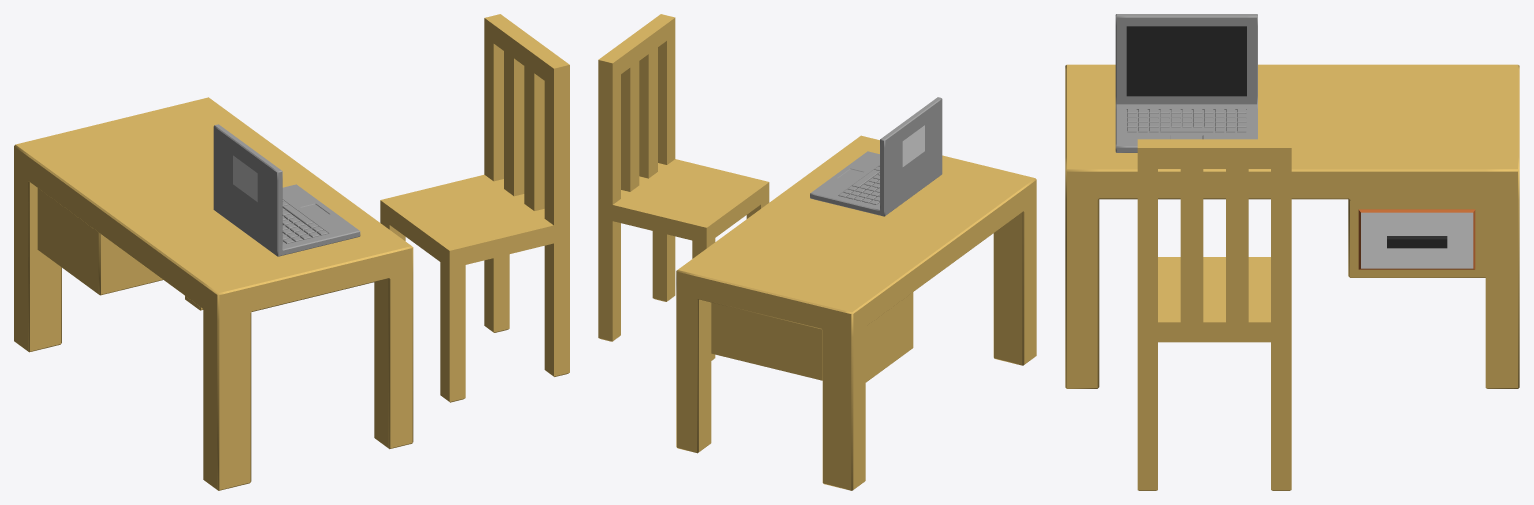
File: Asset010_PC+Mesa+Cadeira.fbx
The picture shows the model from 3 angles, left to right: view 1: azimuth 30°, elevation 25°; view 2: azimuth 150°, elevation 25°; view 3: azimuth 270°, elevation 25°; orthographic projection. The views are drawn at different scales.
Parts seen in each view (by area): view 1: Mesinha, Cadeira, Jabook, Logo_Jaré; view 2: Mesinha, Cadeira, Jabook, Logo_Jaré; view 3: Mesinha, Cadeira, Jabook, Portinha.
Part boxes in pixels (x1,y1,x2,y2): Mesinha: [14, 97, 413, 490]; Cadeira: [380, 14, 569, 402]; Jabook: [213, 124, 360, 256]; Logo_Jaré: [233, 155, 257, 201]; Mesinha: [676, 135, 1036, 490]; Cadeira: [598, 14, 769, 360]; Jabook: [810, 97, 942, 216]; Logo_Jaré: [902, 125, 924, 166]; Mesinha: [1065, 64, 1519, 388]; Cadeira: [1137, 139, 1291, 490]; Jabook: [1115, 14, 1257, 152]; Portinha: [1358, 209, 1475, 269].
Size of the model in its own units: 224 by 172 by 206.
